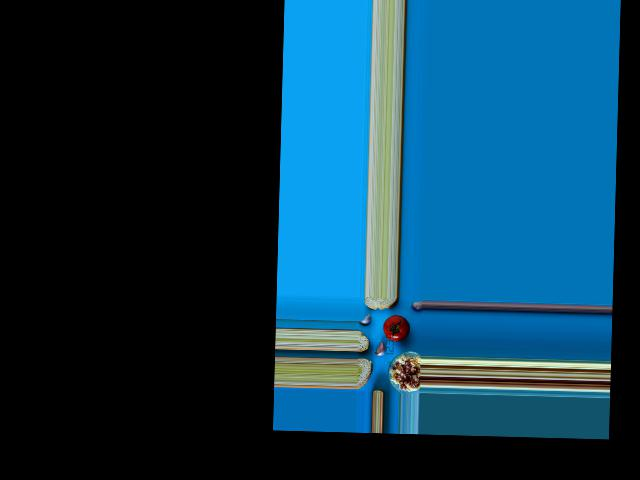tomato: (382, 314, 410, 340)
